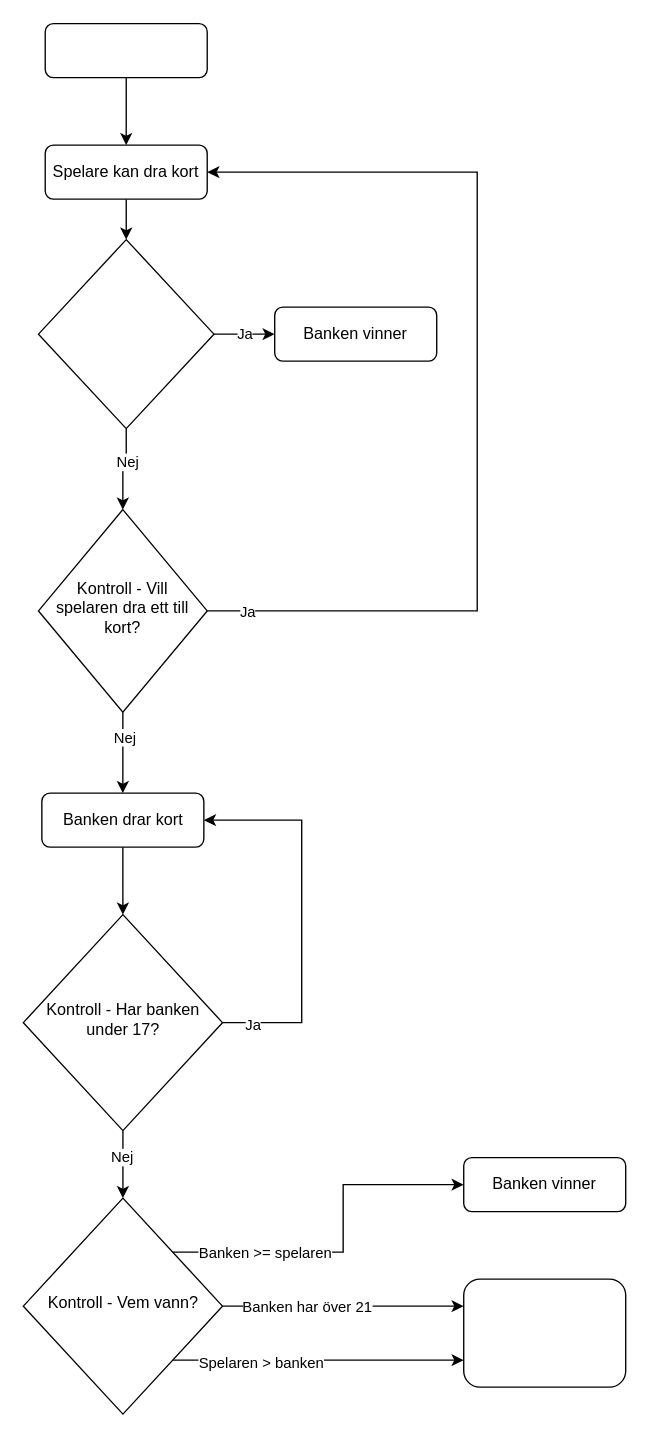
The diagram is 651 pixels wide and 1438 high, and some of its shapes have lost their labels. The box of each missing label's shape, as (x1, y1, x2, y2) in pixels:
Kontroll - Har spelaren över 21?: (37, 238, 214, 429)
Spelaren vinner: (462, 1278, 626, 1387)
Visa spelplanen: (44, 22, 207, 78)
